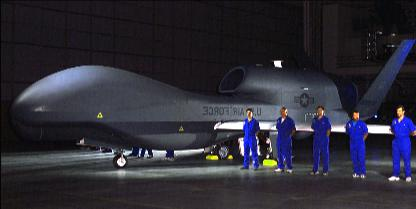P3: (8, 38, 415, 168)
